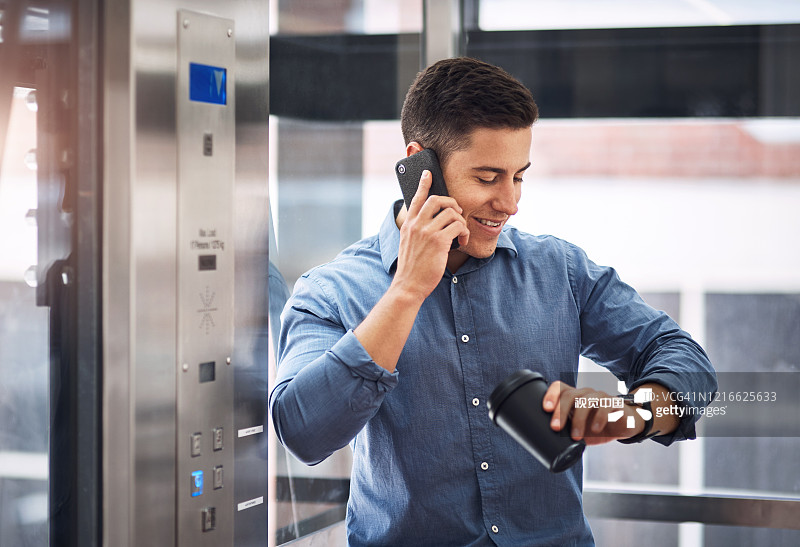calling: (375, 156, 478, 296)
